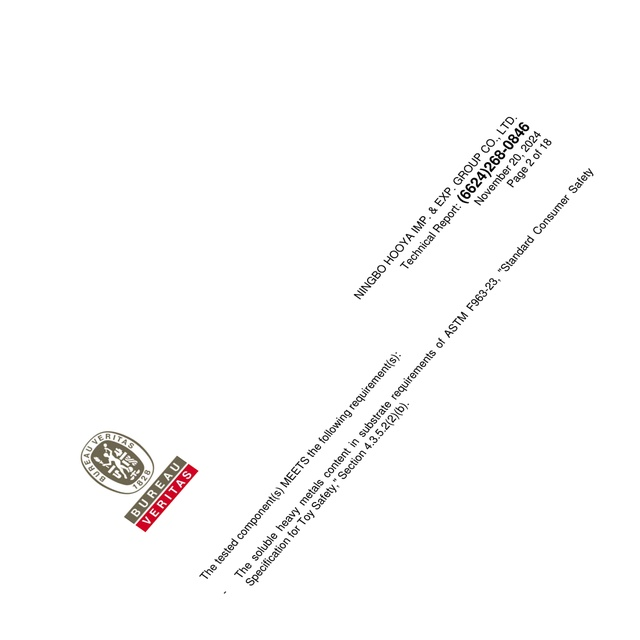bureau_veritas: (81, 426, 203, 536)
